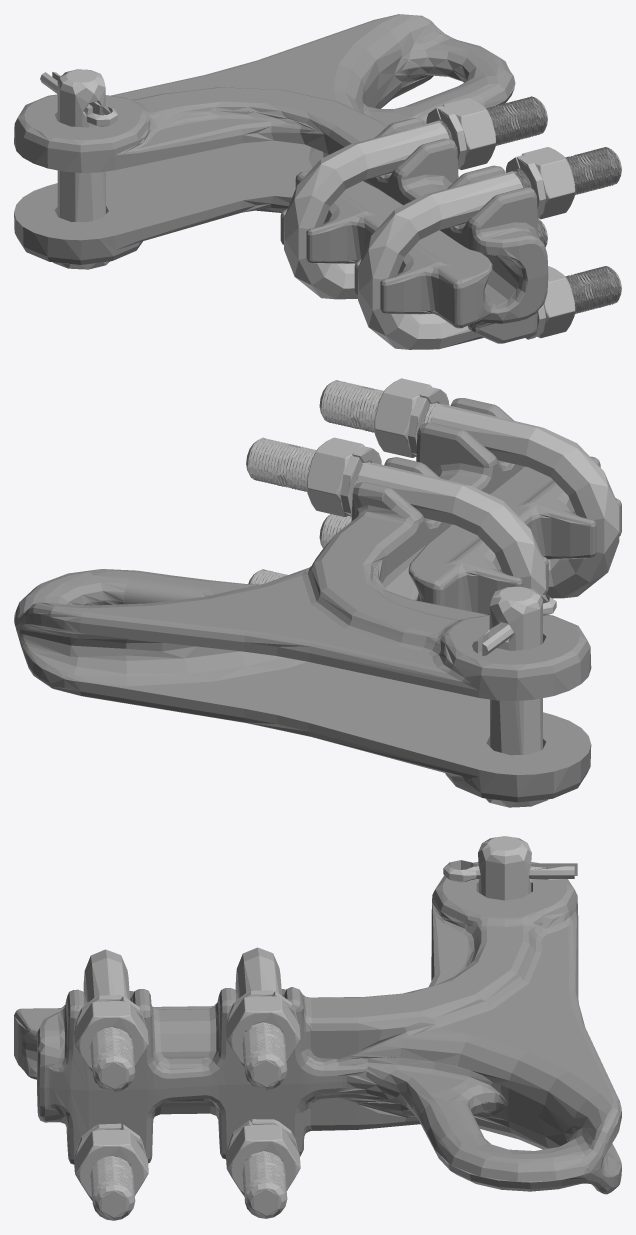
Rendered from g_pistola.gltf.
The picture shows the model from 3 angles, top to bottom: view 1: azimuth 30°, elevation 25°; view 2: azimuth 150°, elevation 25°; view 3: azimuth 270°, elevation 25°; orthographic projection. The views are drawn at different scales.
Parts seen in each view (by area): view 1: Ensamble Grapa Pistola 266-8 As.001, Ensamble Grapa Pistola 266-8 As, Ensamble Grapa Pistola 266-8 As.002; view 2: Ensamble Grapa Pistola 266-8 As.001, Ensamble Grapa Pistola 266-8 As, Ensamble Grapa Pistola 266-8 As.002; view 3: Ensamble Grapa Pistola 266-8 As.001, Ensamble Grapa Pistola 266-8 As, Ensamble Grapa Pistola 266-8 As.002.
Part boxes in pixels (x1,y1,x2,y2): Ensamble Grapa Pistola 266-8 As.001: (14,14,548,343); Ensamble Grapa Pistola 266-8 As: (40,69,621,349); Ensamble Grapa Pistola 266-8 As.002: (280,170,492,328); Ensamble Grapa Pistola 266-8 As.001: (14,398,591,802); Ensamble Grapa Pistola 266-8 As: (246,378,619,807); Ensamble Grapa Pistola 266-8 As.002: (408,456,621,614); Ensamble Grapa Pistola 266-8 As.001: (36,862,621,1194); Ensamble Grapa Pistola 266-8 As: (74,836,577,1220); Ensamble Grapa Pistola 266-8 As.002: (14,989,285,1079).
Size of the model in its own units: 0.5449 by 0.2011 by 0.5396.
Materials: 3 (3 with a texture image).
